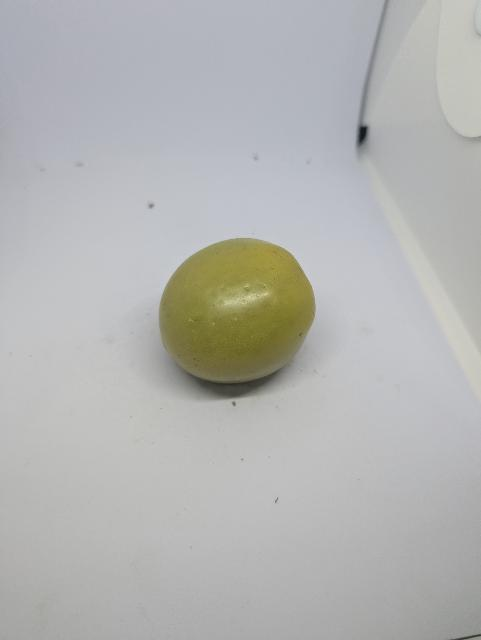breaker: (159, 238, 316, 383)
